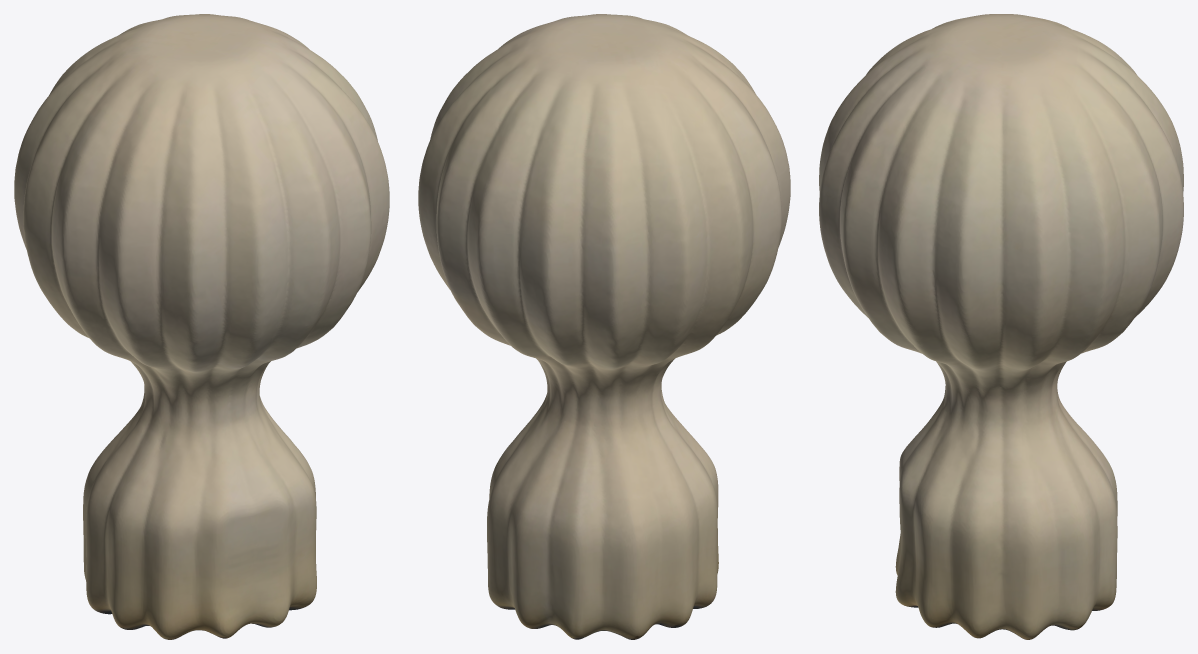
The picture shows the model from 3 angles, left to right: view 1: azimuth 30°, elevation 25°; view 2: azimuth 150°, elevation 25°; view 3: azimuth 270°, elevation 25°; orthographic projection.
Parts seen in each view (by area): view 1: tripo_node_977f0929-a1c6-4296-8ef2-08672d1d0cae; view 2: tripo_node_977f0929-a1c6-4296-8ef2-08672d1d0cae; view 3: tripo_node_977f0929-a1c6-4296-8ef2-08672d1d0cae.
Boxes of the visible parts, x1,y1,x2,y2 form: tripo_node_977f0929-a1c6-4296-8ef2-08672d1d0cae: [14, 14, 389, 639]; tripo_node_977f0929-a1c6-4296-8ef2-08672d1d0cae: [418, 14, 790, 639]; tripo_node_977f0929-a1c6-4296-8ef2-08672d1d0cae: [819, 14, 1183, 639].
Bounding box in the file's own units: 0.5587 × 0.9486 × 0.5603.
Materials: 1 (1 with a texture image).
